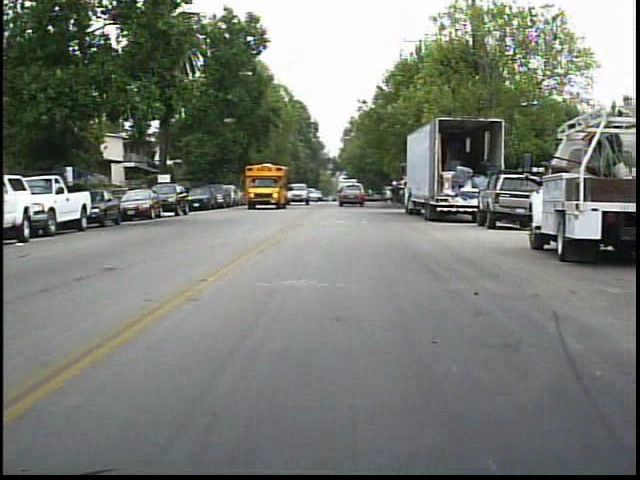person: (390, 178, 408, 213)
